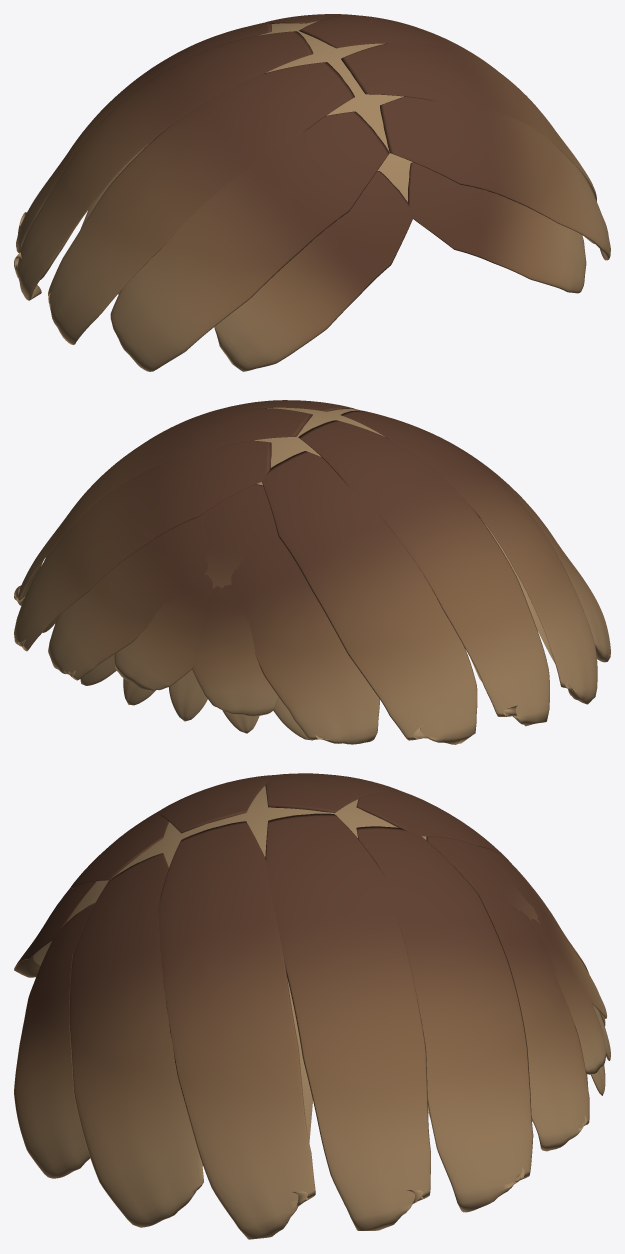
Rendered from Masculine-middle-part-beanie261-hair-ombre.glb.
3 renders of one model, top to bottom at view 1: azimuth 30°, elevation 25°; view 2: azimuth 150°, elevation 25°; view 3: azimuth 270°, elevation 25°, orthographic. The views are drawn at different scales.
Parts seen in each view (by area): view 1: 226 hair / Hair260 / layered middle-part; view 2: 226 hair / Hair260 / layered middle-part; view 3: 226 hair / Hair260 / layered middle-part.
Boxes of the visible parts, box(x1,y1,x2,y2) form: 226 hair / Hair260 / layered middle-part: box(14, 14, 610, 371); 226 hair / Hair260 / layered middle-part: box(14, 400, 610, 744); 226 hair / Hair260 / layered middle-part: box(14, 773, 610, 1239).
Bounding box in the file's own units: 0.992 × 0.4101 × 0.7914.
